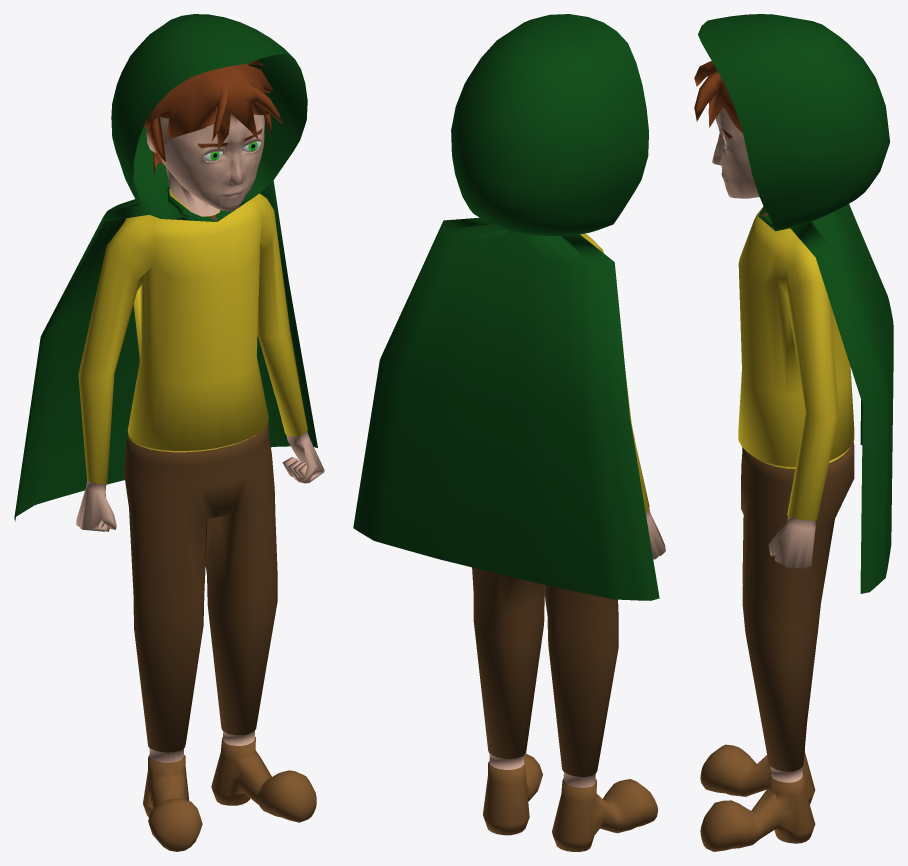
The model's file is heltenveroTRI.fbx.
3 views of the same model, side by side, from view 1: azimuth 30°, elevation 25°; view 2: azimuth 150°, elevation 25°; view 3: azimuth 270°, elevation 25° (orthographic).
Visible parts, largest first — view 1: Sphere; view 2: Sphere; view 3: Sphere.
Part boxes in pixels (x1,y1,x2,y2): Sphere: [14, 14, 324, 851]; Sphere: [353, 14, 665, 851]; Sphere: [694, 14, 893, 851].
Size of the model in its own units: 74.65 by 185 by 42.16.
